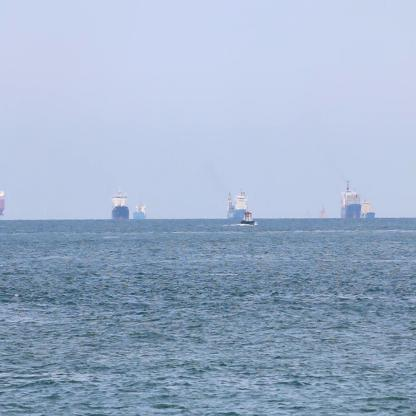Container Ship: (339, 178, 361, 221), (224, 187, 249, 223), (108, 184, 130, 224), (361, 196, 377, 223), (132, 200, 148, 225), (239, 208, 256, 228), (317, 202, 329, 221)
